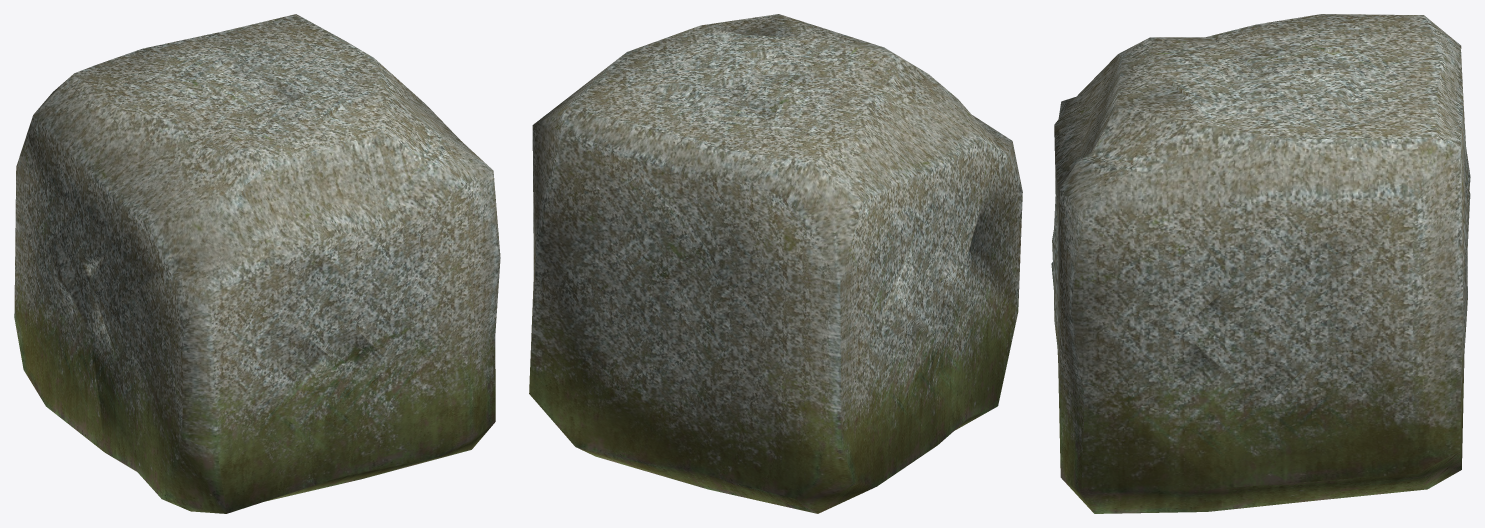
The model's file is oxidised_marble_cube.glb.
The picture shows the model from 3 angles, left to right: view 1: azimuth 30°, elevation 25°; view 2: azimuth 150°, elevation 25°; view 3: azimuth 270°, elevation 25°; orthographic projection. The views are drawn at different scales.
Visible parts, largest first — view 1: kup_low; view 2: kup_low; view 3: kup_low.
Part boxes in pixels (x1,y1,x2,y2): kup_low: (14,14,500,513); kup_low: (529,14,1022,513); kup_low: (1051,14,1470,513).
Bounding box in the file's own units: 1163 × 1153 × 1148.
1 material, 1 textured.
